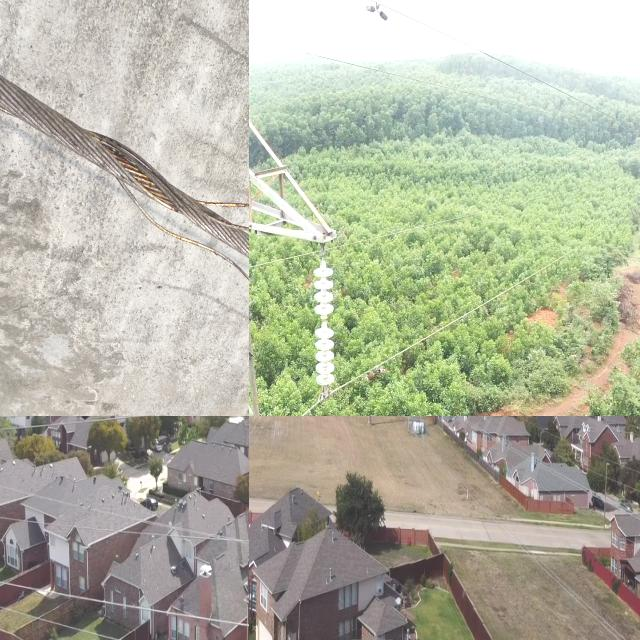杆塔: (249, 0, 351, 416)
正常电缆: (287, 184, 640, 416), (386, 0, 582, 106), (0, 571, 249, 632), (0, 593, 173, 640)
正常绝缘子: (310, 250, 343, 402)
电缆破损: (76, 0, 249, 174)
绝缘子破损: (316, 316, 328, 327)
